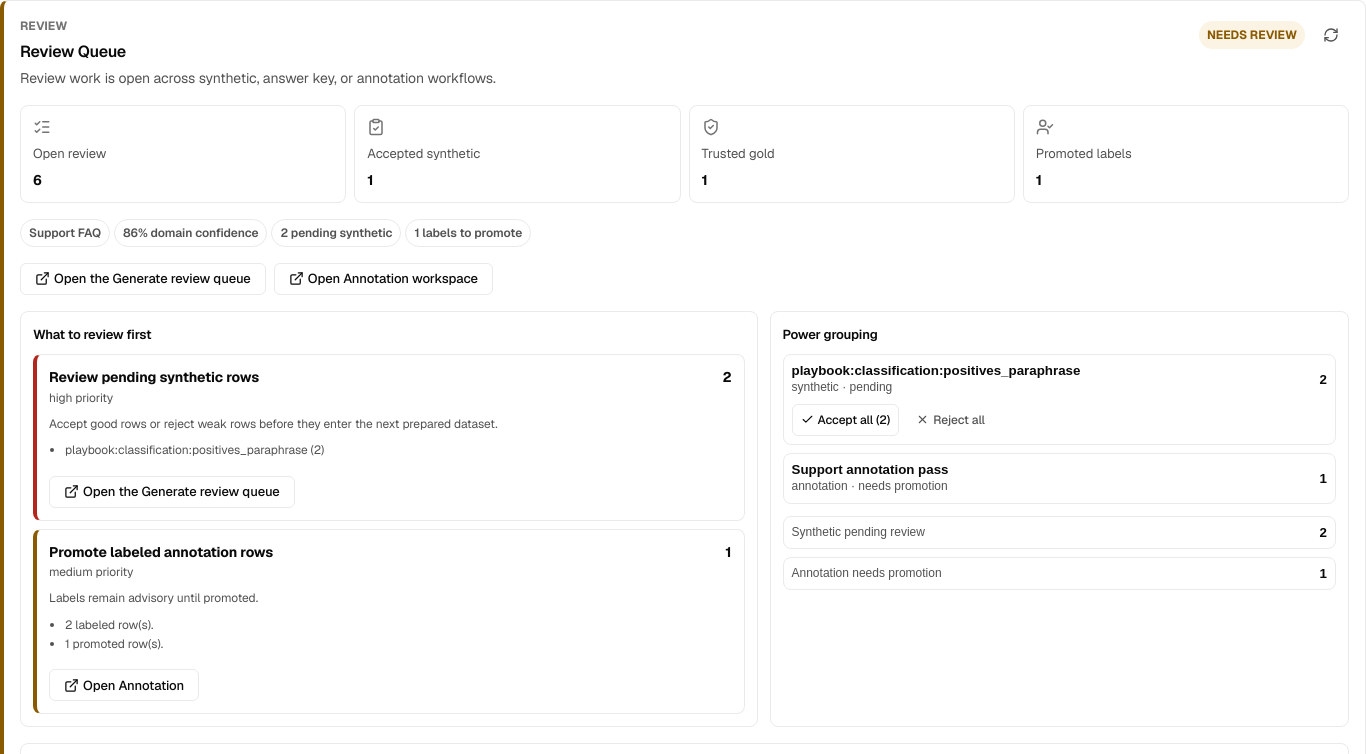
Scenario: DataStudioReviewQueuePanel › bulk-accepts a synthetic pending group in place and refreshes
The image size is (1366, 754).
Step 1. Click the button "Accept all (2)" → [845, 420], box [792,404,899,436]
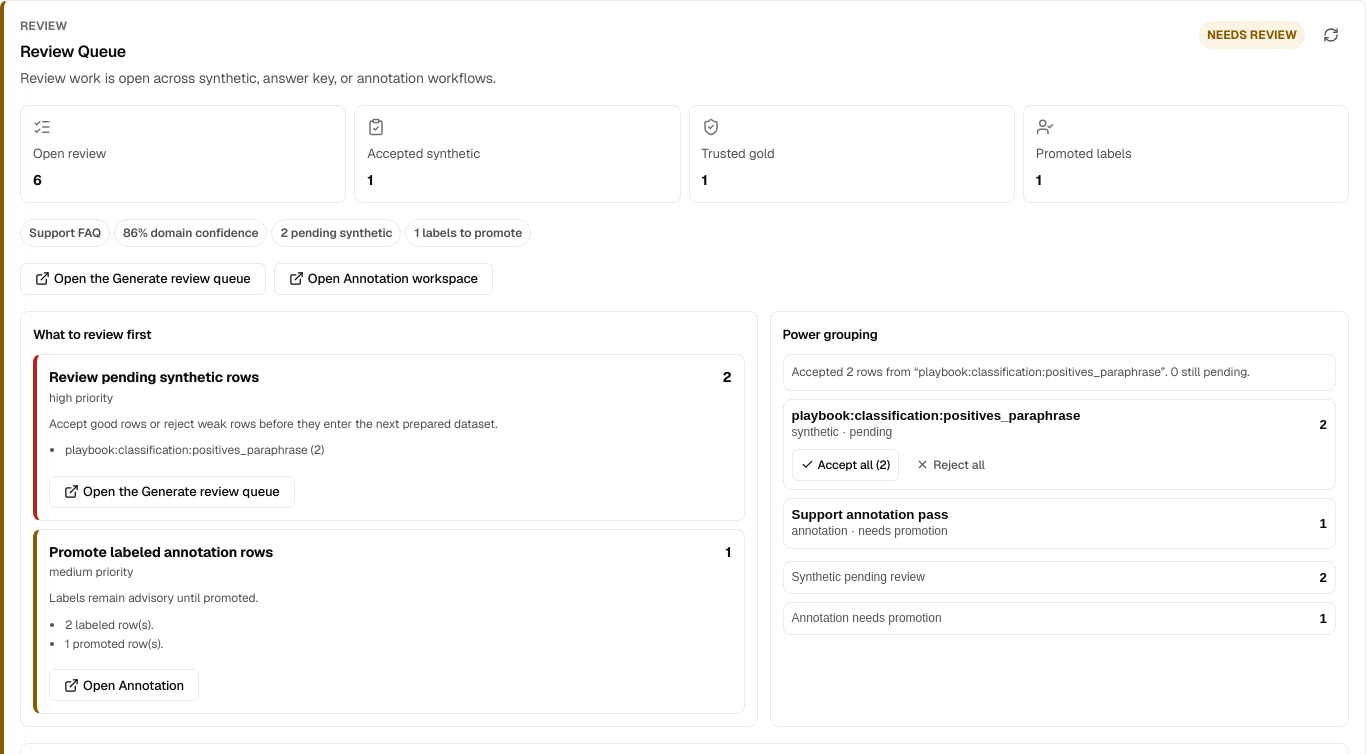
Expected: the message with test id "bulk-flash" shows "Accepted 2 rows", [792,364,1250,380]
